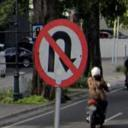NoVirarU: (34, 20, 88, 88)
